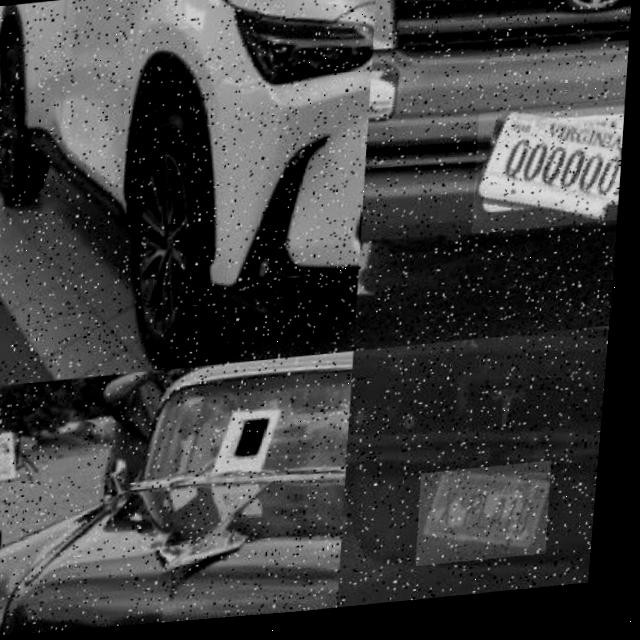LicensePlate: (478, 119, 625, 232), (427, 480, 559, 565)
